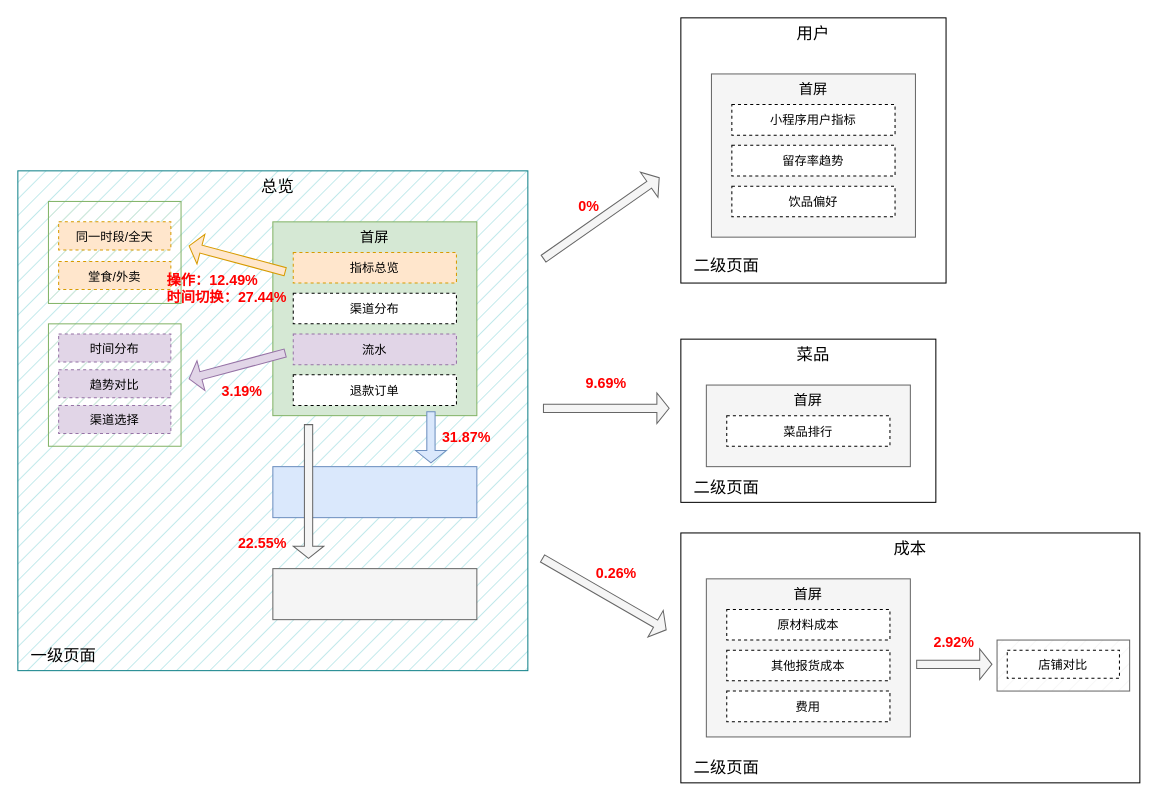
Image size: 1158x801. Some labels were removed from this diagram. Each missing label, with the box of its shape:
店铺排行: (272, 466, 477, 518)
店铺评分: (272, 568, 477, 620)
